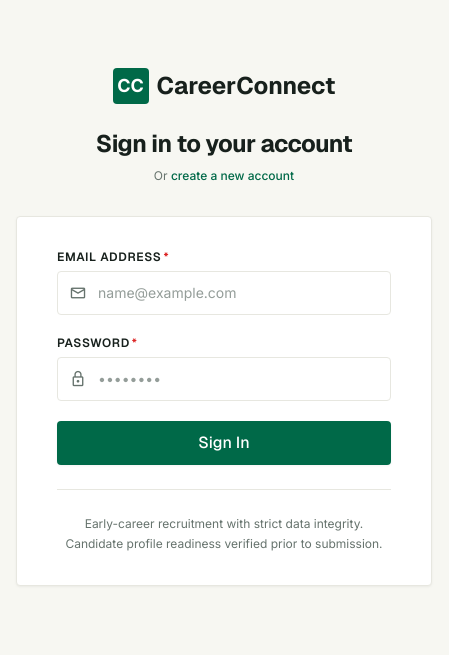
LoginPage Integration › validates empty inputs and displays error message
Click the button "Sign In": (224, 443) [57,421,391,465]
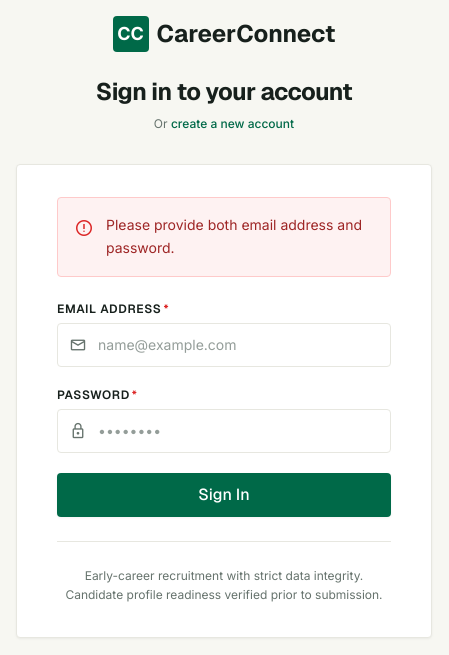
Expected: the text "Please provide both email address and password." is shown, [106,214,374,260]
